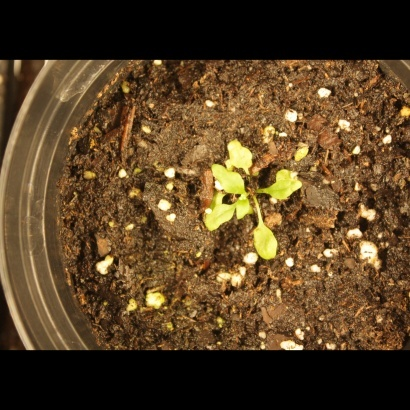leaf: (199, 156, 248, 199), (269, 162, 306, 205), (252, 211, 281, 264), (191, 200, 232, 234), (223, 137, 256, 170), (232, 188, 255, 225)
